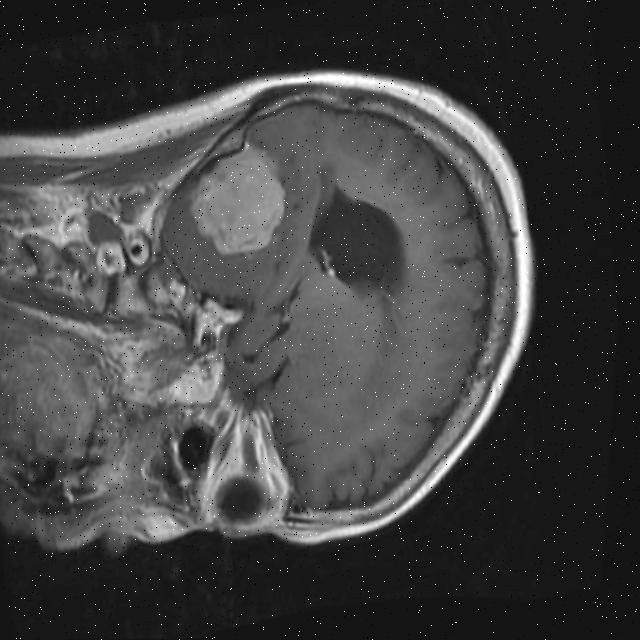Meningioma: (179, 140, 298, 263)
